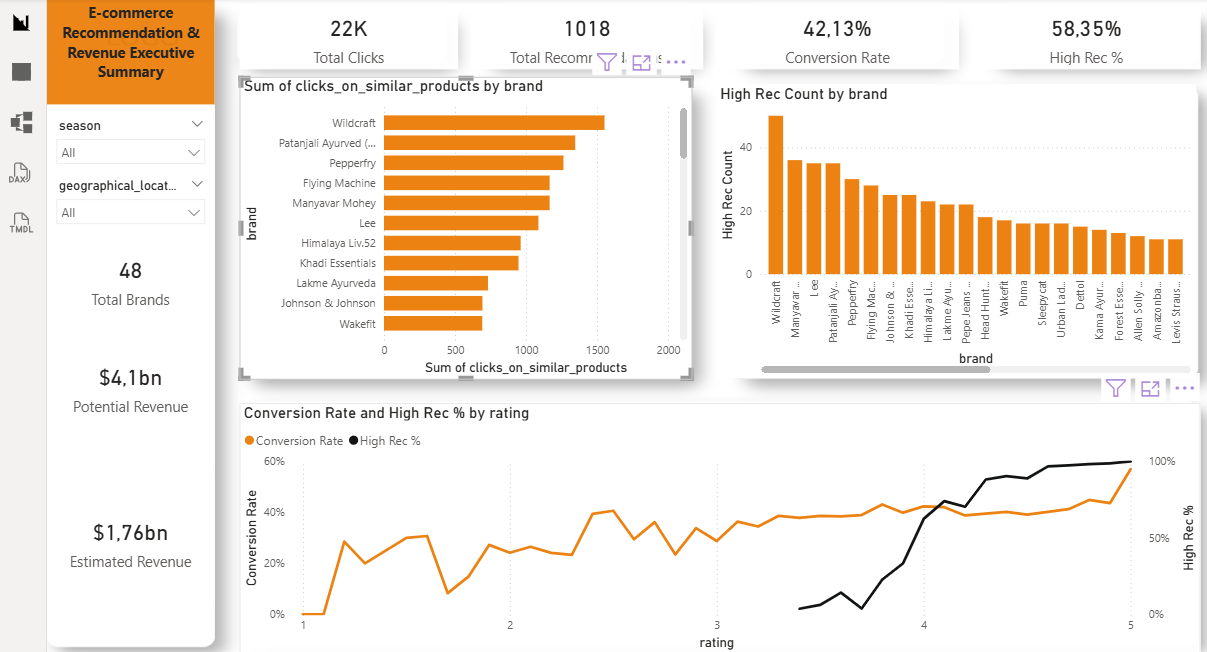

What the dashboard file says about the page in this screenshot:
{"tool":"powerbi","page":{"name":"Page 1","canvas":[1280,720],"ordinal":0},"visuals":[{"type":"card","fields":{"Values":["Nhóm Measure Tổng quan.Total Clicks"]},"box":[211.3,9.6,240.1,68.6],"z":0},{"type":"card","fields":{"Values":["Nhóm Measure Tổng quan.Total Recommendations"]},"box":[465.2,9.6,255.2,68.6],"z":1000},{"type":"card","fields":{"Values":["Nhóm Measure Tỷ lệ & Hiệu quả.Conversion Rate"]},"box":[734.1,9.6,267.6,68.6],"z":2000},{"type":"card","fields":{"Values":["Nhóm Measure Tỷ lệ & Hiệu quả.High Rec %"]},"box":[1015.4,9.6,251.1,68.6],"z":3000},{"type":"clusteredBarChart","fields":{"Y":["Sum(fact_recommendations_2.clicks_on_similar_products)"],"Category":["dim_product_1.brand"]},"box":[211.3,86.4,496.7,332.1],"z":4000},{"type":"lineChart","fields":{"Category":["dim_product_1.rating"],"Y":["Nhóm Measure Tỷ lệ & Hiệu quả.Conversion Rate"],"Y2":["Nhóm Measure Tỷ lệ & Hiệu quả.High Rec %"]},"box":[211.3,444.6,1055.2,275.8],"z":5000},{"type":"clusteredColumnChart","fields":{"Y":["Nhóm Measure Tỷ lệ & Hiệu quả.High Rec Count"],"Category":["dim_product_1.brand"]},"box":[734.1,94.7,526.9,322.5],"z":6000},{"type":"slicer","fields":{"Values":["dim_context.season"]},"box":[0,126.2,183.9,65.9],"z":7000},{"type":"slicer","fields":{"Values":["dim_context.geographical_location"]},"box":[0,192.1,183.9,78.2],"z":8000},{"type":"card","fields":{"Values":["Nhóm Measure Tổng quan.Total Brands"]},"box":[0,252.5,183.9,113.9],"z":9000},{"type":"card","fields":{"Values":["Nhóm Measure Tỷ lệ & Hiệu quả.Estimated Revenue"]},"box":[0,528.3,183.9,137.2],"z":10000},{"type":"card","fields":{"Values":["Nhóm Measure Tỷ lệ & Hiệu quả.Potential Revenue (from Clicks)"]},"box":[0,340.3,183.9,172.9],"z":11000},{"type":"textbox","box":[0,0,183.9,116.6],"z":12000}]}

Visuals, with their boxes on the page's 1280x720 design canvas (x1, y1, x2, y2). These are canvas units, not pixel positions in the 1207x652 screenshot, which may show the page scaled, cropped or inside an application window:
card - Nhóm Measure Tổng quan.Total Clicks: left=211, top=10, right=451, bottom=78
card - Nhóm Measure Tổng quan.Total Recommendations: left=465, top=10, right=720, bottom=78
card - Nhóm Measure Tỷ lệ & Hiệu quả.Conversion Rate: left=734, top=10, right=1002, bottom=78
card - Nhóm Measure Tỷ lệ & Hiệu quả.High Rec %: left=1015, top=10, right=1266, bottom=78
clusteredBarChart - Sum(fact_recommendations_2.clicks_on_similar_products) x dim_product_1.brand: left=211, top=86, right=708, bottom=418
lineChart - dim_product_1.rating x Nhóm Measure Tỷ lệ & Hiệu quả.Conversion Rate: left=211, top=445, right=1266, bottom=720
clusteredColumnChart - Nhóm Measure Tỷ lệ & Hiệu quả.High Rec Count x dim_product_1.brand: left=734, top=95, right=1261, bottom=417
slicer - dim_context.season: left=0, top=126, right=184, bottom=192
slicer - dim_context.geographical_location: left=0, top=192, right=184, bottom=270
card - Nhóm Measure Tổng quan.Total Brands: left=0, top=252, right=184, bottom=366
card - Nhóm Measure Tỷ lệ & Hiệu quả.Estimated Revenue: left=0, top=528, right=184, bottom=666
card - Nhóm Measure Tỷ lệ & Hiệu quả.Potential Revenue (from Clicks): left=0, top=340, right=184, bottom=513
textbox: left=0, top=0, right=184, bottom=117
